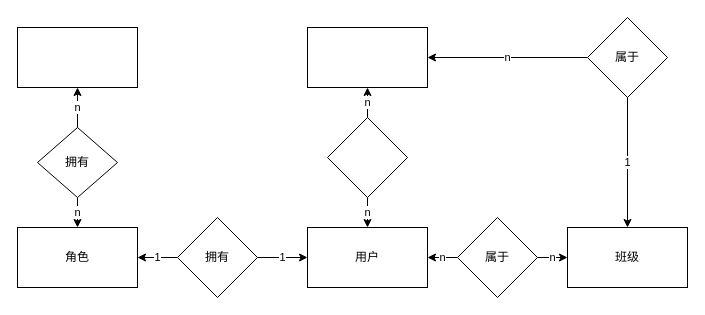
Image size: 705x315. Some labels were removed from this diagram. The shapes that lost their labels are listed below. From the top down, each one's centre as x and y in pixels, then its label:
the point at 77,57: 权限
the point at 367,57: 会议室
the point at 367,157: 参加
